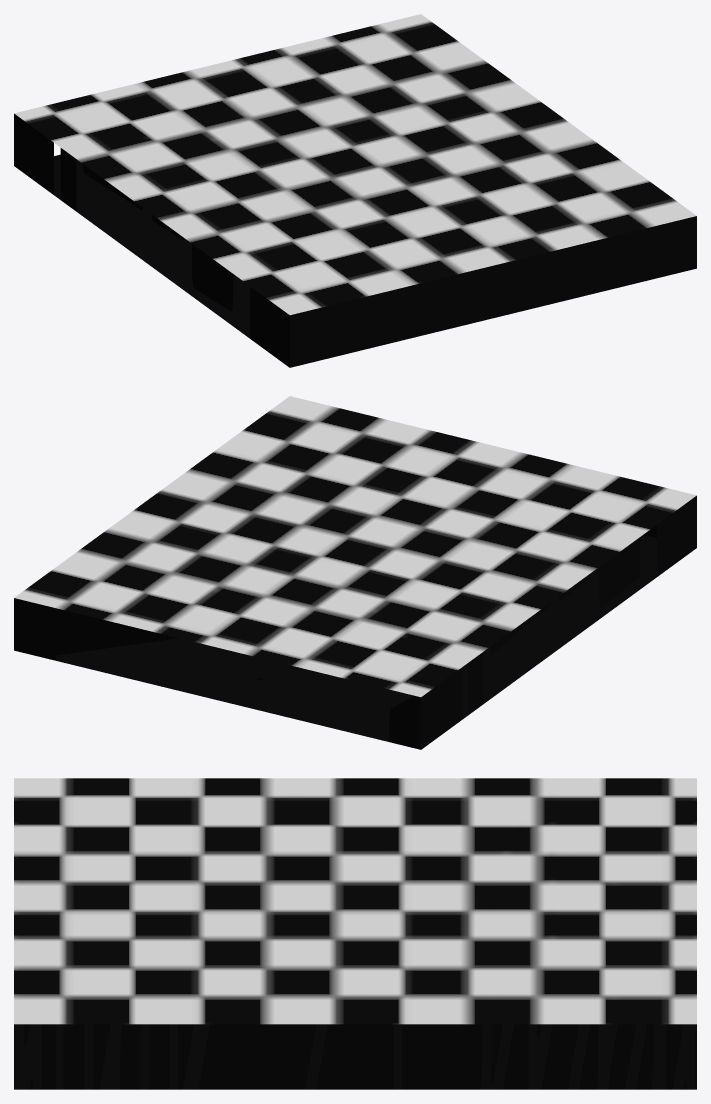
The model's file is Piso.fbx.
The picture shows the model from 3 angles, top to bottom: view 1: azimuth 30°, elevation 25°; view 2: azimuth 150°, elevation 25°; view 3: azimuth 270°, elevation 25°; orthographic projection. The views are drawn at different scales.
Visible parts, largest first — view 1: piso.002; view 2: piso.002; view 3: piso.002.
Boxes of the visible parts, x1,y1,x2,y2 form: piso.002: (14,14,696,367); piso.002: (14,396,696,749); piso.002: (14,778,696,1089).
Bounding box in the file's own units: 304 × 37.54 × 357.
Materials: 1 (1 with a texture image).
